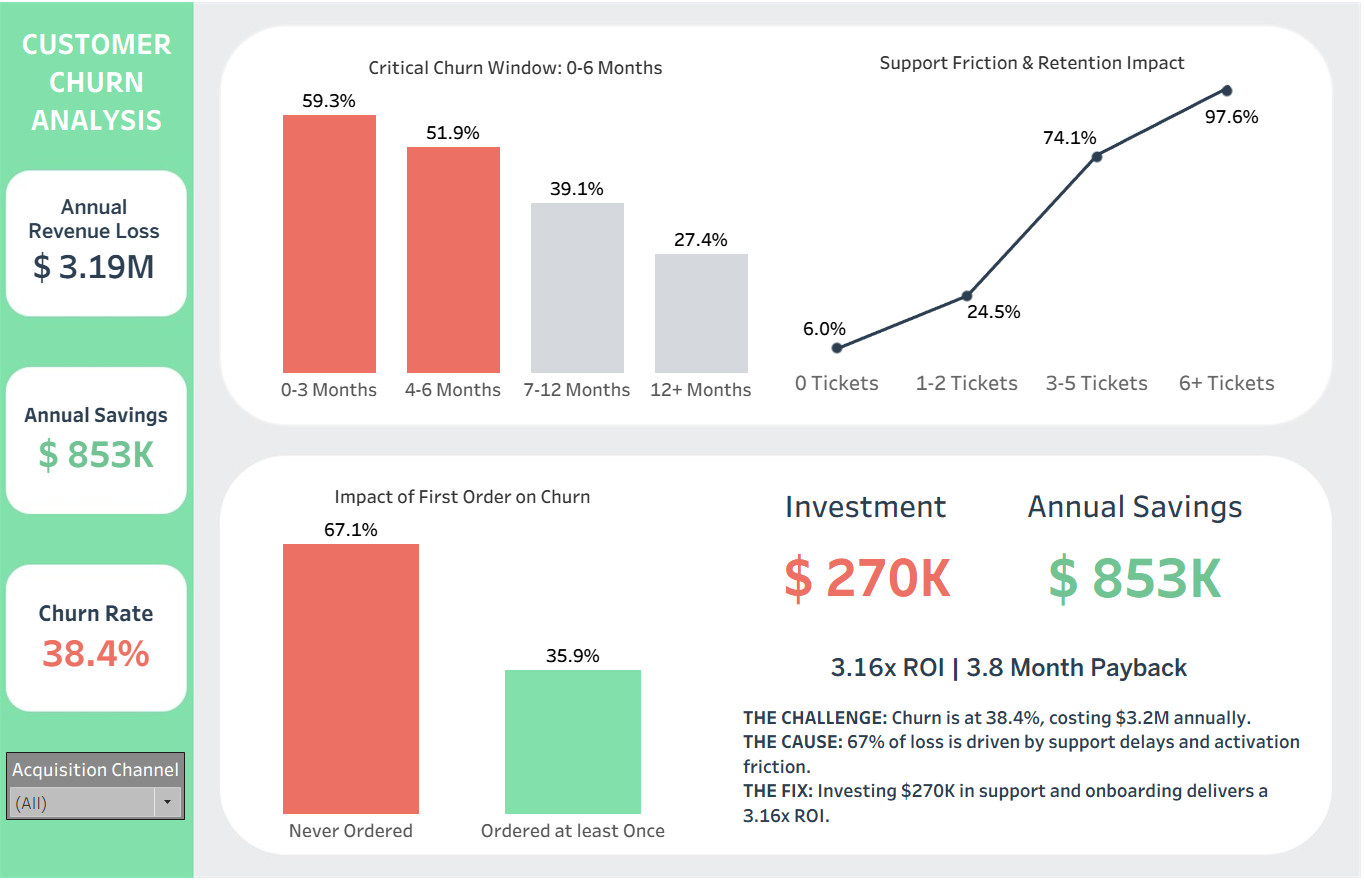

What the dashboard file says about the page in this screenshot:
{"tool":"tableau","page":{"name":"Dashboard 2","canvas":[1400,900],"ordinal":0},"visuals":[{"type":"image","param":"Image/Slide1.PNG","box":[8,8,1384,884]},{"type":"worksheet","title":"Sheet 3","mark":"Line","rows":["Calculation_1184773182500869","Calculation_1184773182500869"],"cols":["Calculation_1184773183500296"],"box":[778,45,527,374]},{"type":"worksheet","title":"Sheet 1","mark":"Automatic","rows":["Calculation_1184773182500869"],"cols":["Calculation_1184773185314827"],"box":[260,58,510,362]},{"type":"text","box":[796,491,171,41]},{"type":"text","box":[1037,491,224,41]},{"type":"worksheet","title":"Sheet 9","mark":"Automatic","rows":["Calculation_1184773182500869"],"cols":["Calculation_0733149563060228"],"box":[254,493,466,347]},{"type":"text","box":[1055,548,175,69]},{"type":"text","box":[784,551,192,65]},{"type":"text","box":[801,622,466,79]},{"type":"text","box":[752,680,568,180]}]}

Visuals, with their boxes in screenshot pixels (x1, y1, x2, y2), scaled from the page's 1400x900 canvas onto the 1364x881 screenshot:
image: <bbox>8, 8, 1356, 873</bbox>
"Sheet 3" worksheet (Line marks): <bbox>758, 44, 1271, 410</bbox>
"Sheet 1" worksheet: <bbox>253, 57, 750, 411</bbox>
text: <bbox>776, 481, 942, 521</bbox>
text: <bbox>1010, 481, 1229, 521</bbox>
"Sheet 9" worksheet: <bbox>247, 483, 701, 822</bbox>
text: <bbox>1028, 536, 1198, 604</bbox>
text: <bbox>764, 539, 951, 603</bbox>
text: <bbox>780, 609, 1234, 686</bbox>
text: <bbox>733, 666, 1286, 842</bbox>
